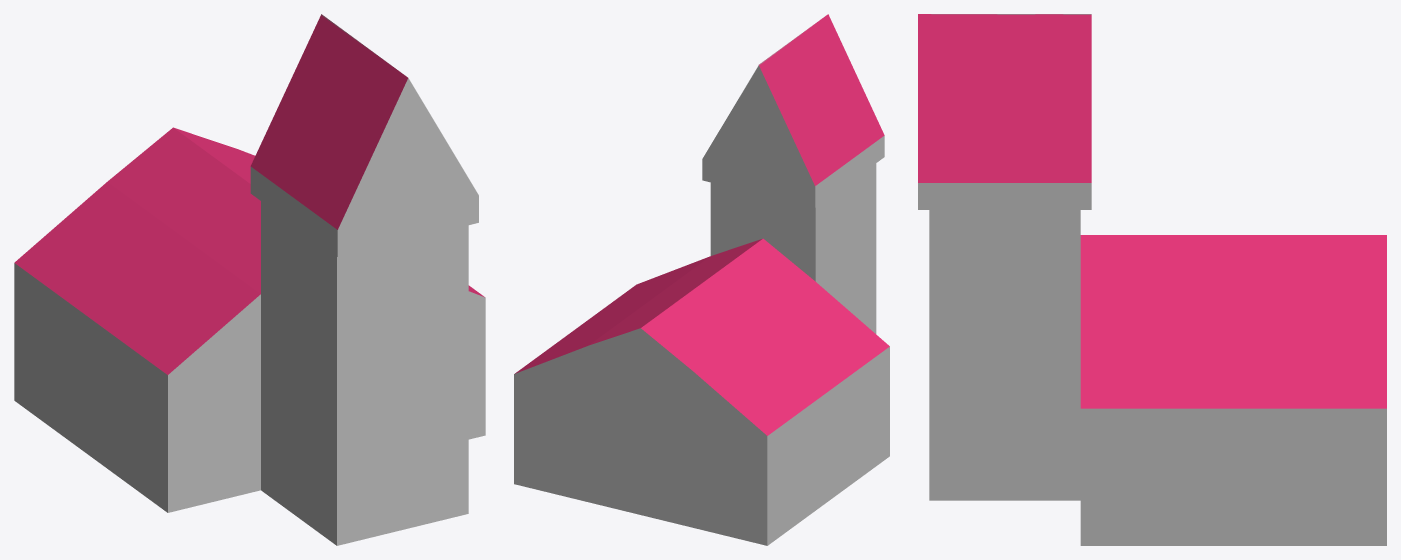
The model's file is Church.fbx.
3 views of the same model, side by side, from view 1: azimuth 30°, elevation 25°; view 2: azimuth 150°, elevation 25°; view 3: azimuth 270°, elevation 25° (orthographic). The views are drawn at different scales.
Visible parts, largest first — view 1: Cube; view 2: Cube; view 3: Cube.
Boxes of the visible parts, <box> form: Cube: <box>14,14,485,545</box>; Cube: <box>514,14,889,545</box>; Cube: <box>918,14,1386,545</box>.
Bounding box in the file's own units: 483 × 662 × 619.
